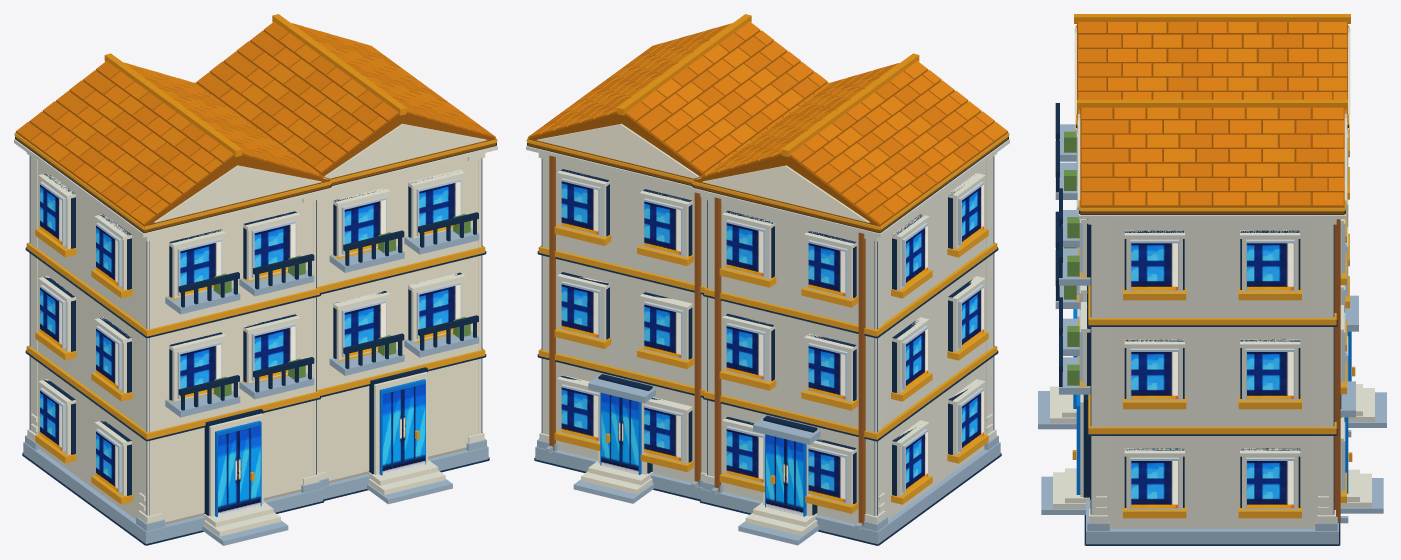
3 views of the same model, side by side, from view 1: azimuth 30°, elevation 25°; view 2: azimuth 150°, elevation 25°; view 3: azimuth 270°, elevation 25° (orthographic). The views are drawn at different scales.
Parts seen in each view (by area): view 1: A03 双峰公寓; view 2: A03 双峰公寓; view 3: A03 双峰公寓.
Part boxes in pixels (x1=…): A03 双峰公寓: x1=14, y1=14, x2=497, y2=545; A03 双峰公寓: x1=526, y1=14, x2=1009, y2=545; A03 双峰公寓: x1=1038, y1=14, x2=1386, y2=545.
Size of the model in its own units: 8.38 by 8.45 by 6.71.
Materials: 2 (1 with a texture image).
